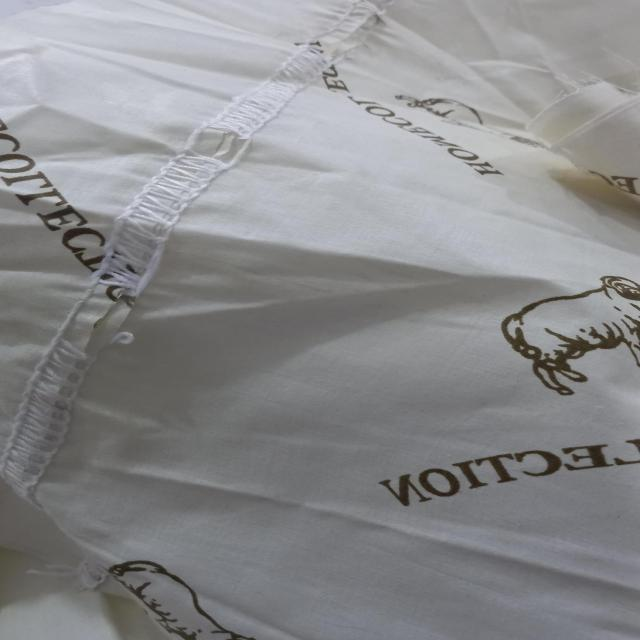gray stitch: (115, 15, 363, 238), (1, 242, 144, 484)
